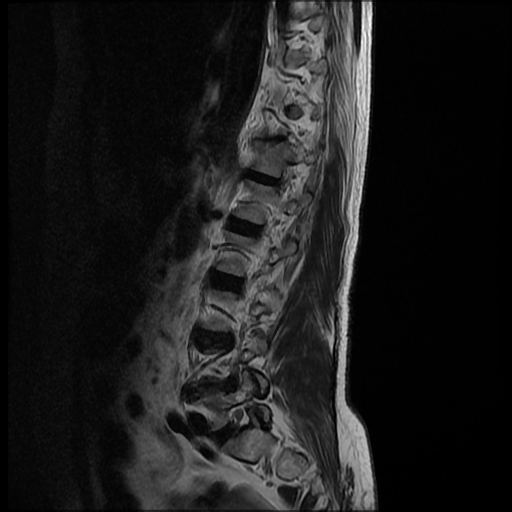LFS0: (221, 398, 259, 442)
